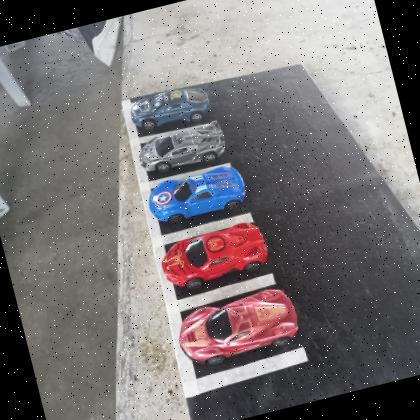Car: (172, 282, 304, 369), (154, 216, 273, 292), (144, 160, 250, 227), (135, 117, 231, 176), (127, 82, 214, 133)
